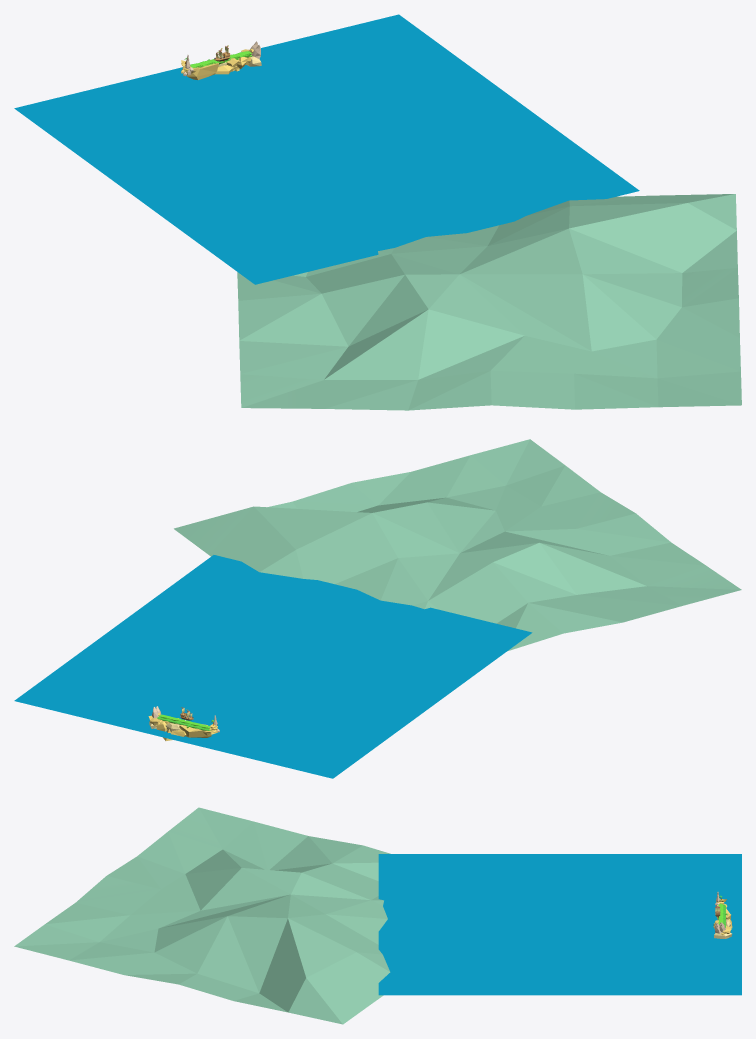
Rendered from map.glb.
3 renders of one model, top to bottom at view 1: azimuth 30°, elevation 25°; view 2: azimuth 150°, elevation 25°; view 3: azimuth 270°, elevation 25°, orthographic. The views are drawn at different scales.
Parts seen in each view (by area): view 1: HorizontalLandshaft_1, Water, Flat_Rock_06; view 2: Water, HorizontalLandshaft_1, Flat_Rock_06; view 3: Water, HorizontalLandshaft_1, Flat_Rock_06.
Part boxes in pixels (<box>): HorizontalLandshaft_1: <box>237,194,741,410</box>; Water: <box>14,14,639,284</box>; Flat_Rock_06: <box>181,41,261,79</box>; Water: <box>14,555,532,778</box>; HorizontalLandshaft_1: <box>174,439,741,651</box>; Flat_Rock_06: <box>148,706,219,740</box>; Water: <box>378,854,741,995</box>; HorizontalLandshaft_1: <box>14,807,390,1024</box>; Flat_Rock_06: <box>713,892,732,938</box>.
Size of the model in its own units: 772 by 67.06 by 1094.
10 materials, 7 textured.
